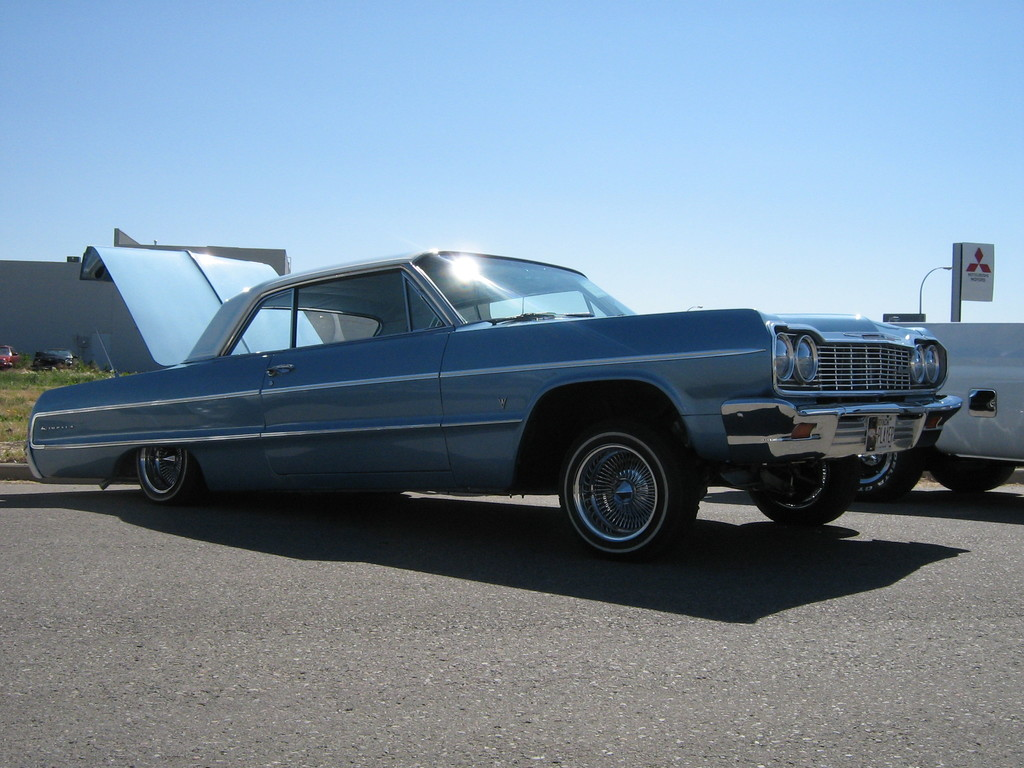mobil: (118, 251, 957, 571)
